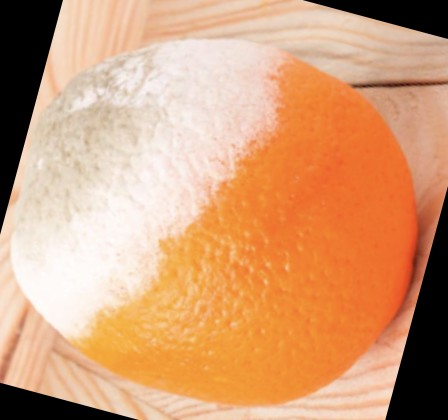rotten_orange: (11, 39, 419, 407)
